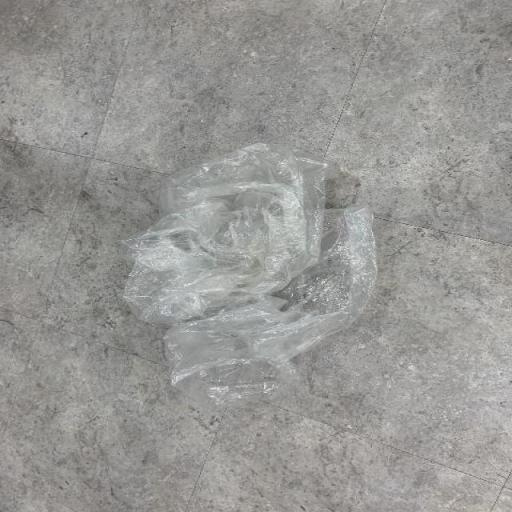plastic-bag: (120, 140, 386, 406)
